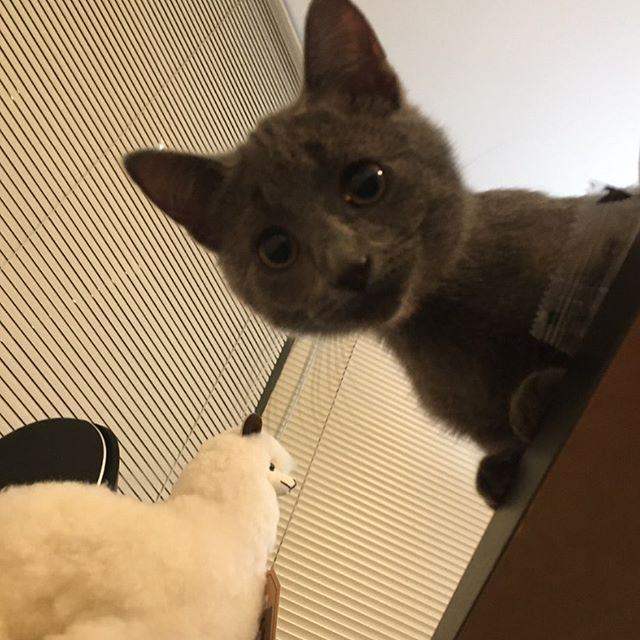cat: (112, 4, 473, 365)
